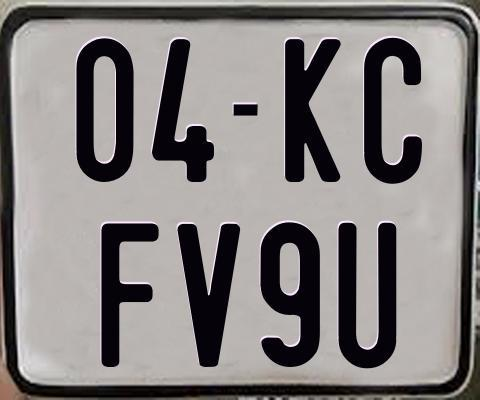0: (73, 37, 133, 183)
4: (151, 37, 217, 184)
9: (259, 221, 325, 371)
C: (363, 36, 421, 186)
F: (98, 221, 156, 367)
K: (282, 37, 339, 182)
U: (335, 220, 396, 365)
V: (174, 224, 241, 370)
